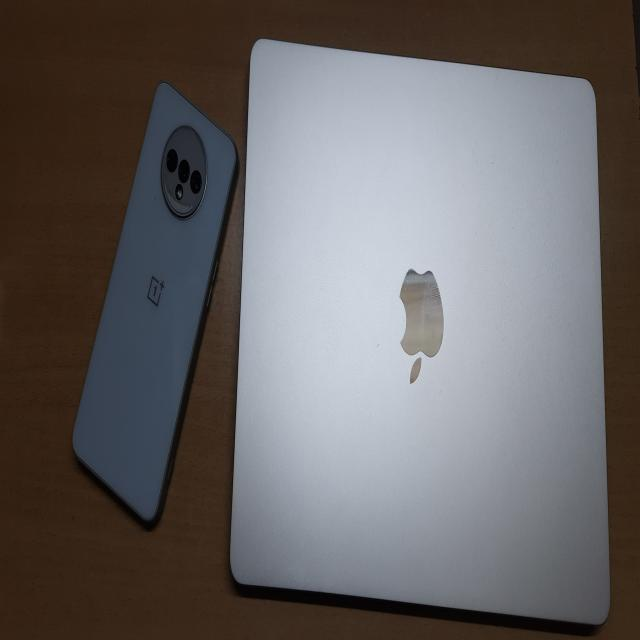Laptop-and-Mobile: (232, 41, 618, 624)
Mobile: (64, 76, 221, 547)
